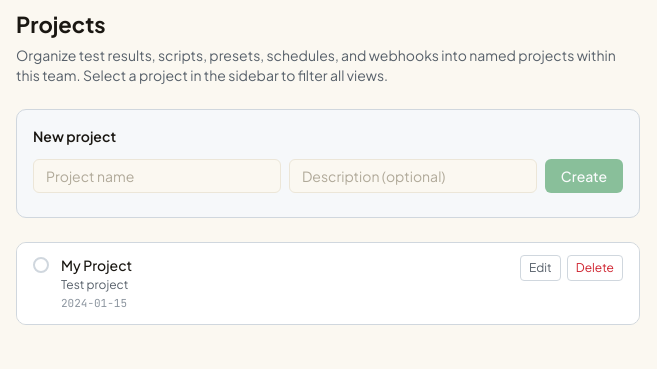
Scenario: WorkspacesPage — edit flow › shows error when updateWorkspace fails
Click the button "Edit".
click(540, 268)  # box [520,255,561,281]
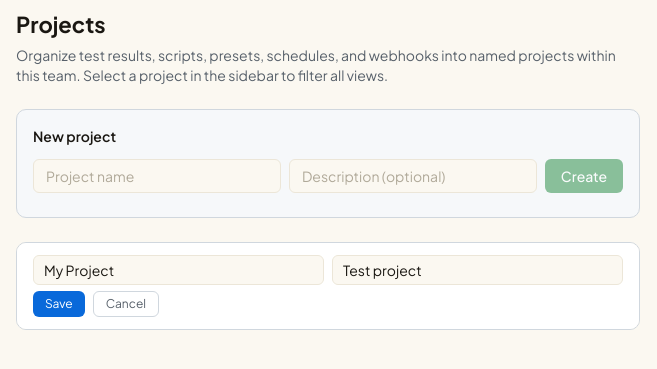
Click the button "Save".
click(59, 304)  # box [33,291,85,317]
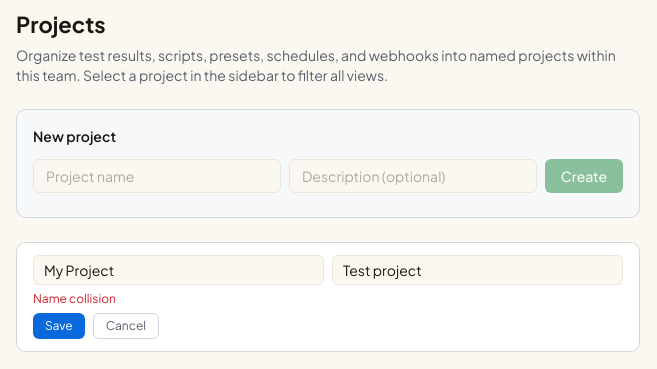
Now the text "Name collision" is shown, box [33,291,116,306]
